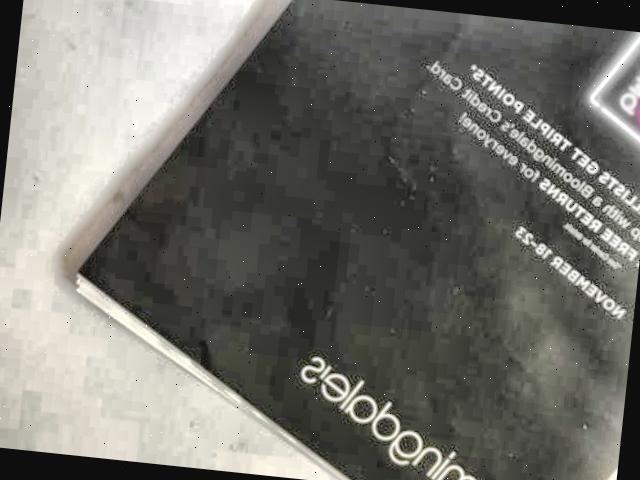Paper: (54, 0, 640, 480)
